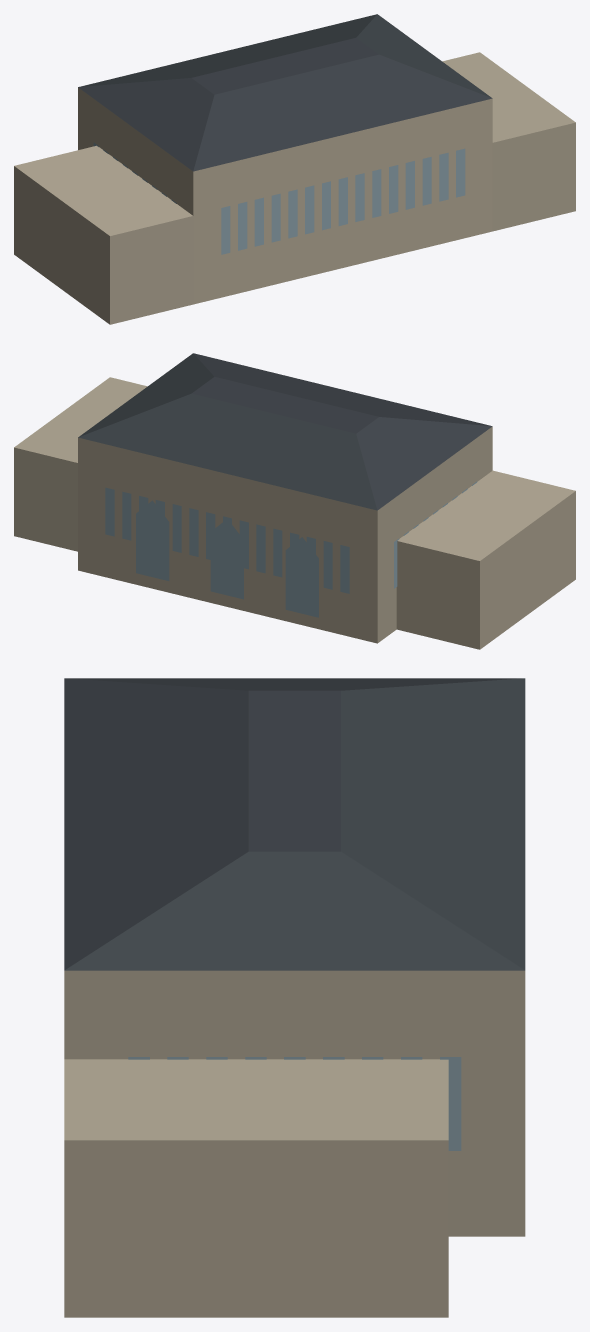
3 views of the same model, one above another, from view 1: azimuth 30°, elevation 25°; view 2: azimuth 150°, elevation 25°; view 3: azimuth 270°, elevation 25° (orthographic). The views are drawn at different scales.
Parts seen in each view (by area): view 1: midtown-terminal-lod3; view 2: midtown-terminal-lod3; view 3: midtown-terminal-lod3.
Part boxes in pixels (x1,y1,x2,y2): midtown-terminal-lod3: [14, 14, 575, 324]; midtown-terminal-lod3: [14, 353, 575, 649]; midtown-terminal-lod3: [64, 678, 525, 1317].
Size of the model in its own units: 154 by 50.41 by 66.33.
